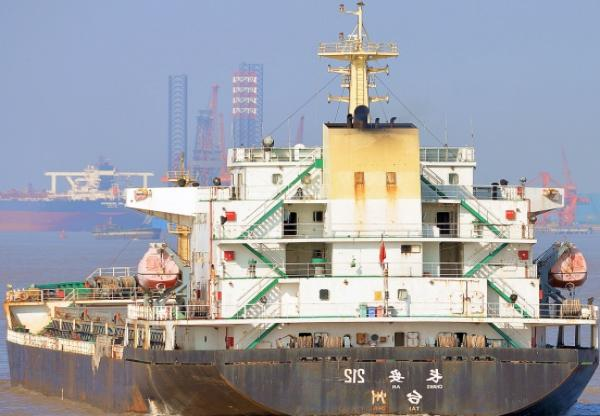Bulkers: (0, 1, 600, 416)
